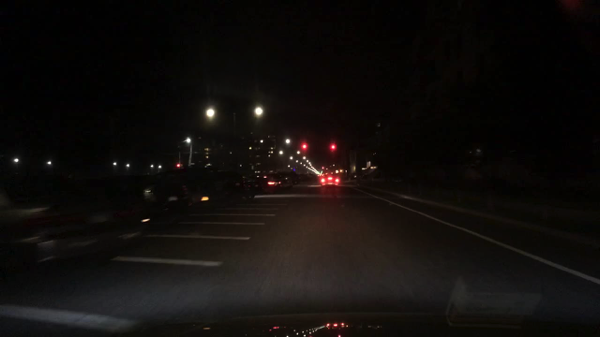car: (0, 169, 151, 268), (103, 172, 190, 230), (172, 162, 232, 212), (214, 167, 258, 204), (257, 174, 286, 195), (319, 172, 341, 187), (283, 169, 301, 187), (276, 172, 291, 191)
traffic light: (330, 141, 334, 152), (303, 140, 305, 149)
